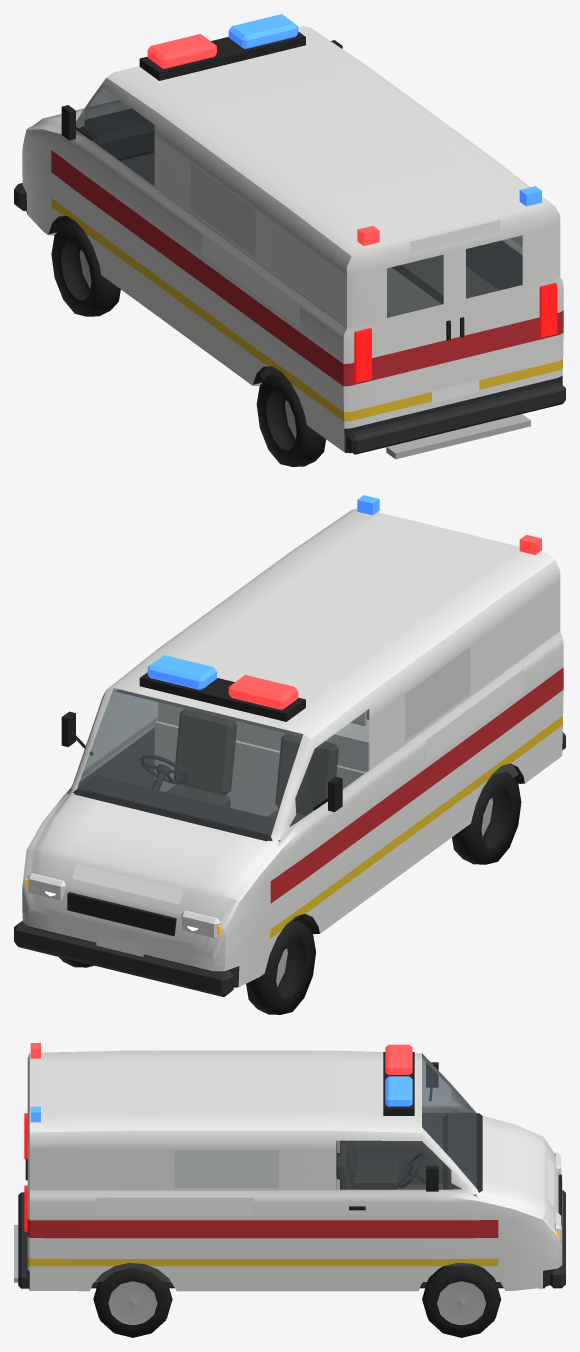
File: ambulance_lod1.glb
The picture shows the model from 3 angles, top to bottom: view 1: azimuth 30°, elevation 25°; view 2: azimuth 150°, elevation 25°; view 3: azimuth 270°, elevation 25°; orthographic projection. The views are drawn at different scales.
Parts seen in each view (by area): view 1: amb_body, wheel_fl, wheel_rl; view 2: amb_body, wheel_fl, wheel_rl; view 3: amb_body, wheel_fr, wheel_rr.
Part boxes in pixels (x1,y1,x2,y2): amb_body: (14,14,565,459); wheel_fl: (51,221,120,316); wheel_rl: (256,374,325,466); amb_body: (14,495,565,996); wheel_fl: (246,919,315,1014); wheel_rl: (452,772,521,864); amb_body: (14,1043,565,1291); wheel_fr: (422,1265,501,1337); wheel_rr: (93,1267,172,1337).
Size of the model in its own units: 2.42 by 2.4 by 5.29.
